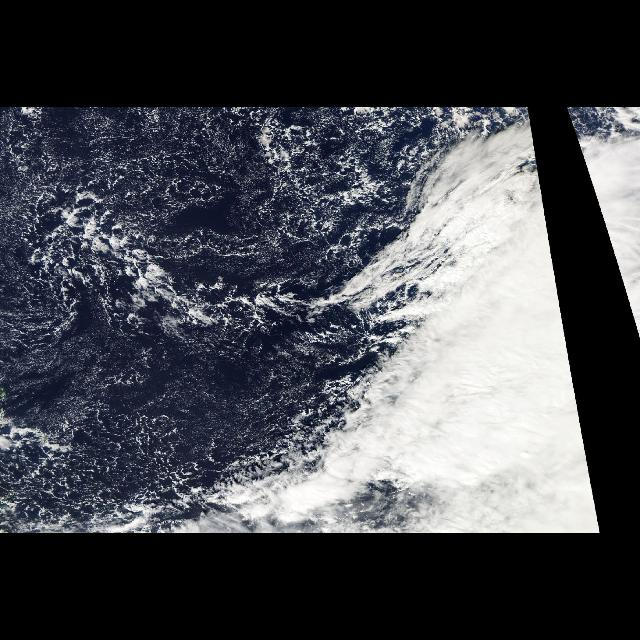Fish: (32, 184, 296, 334)
Gravel: (4, 108, 452, 376), (5, 386, 365, 524)
Sugar: (0, 332, 354, 423), (84, 112, 258, 248)
